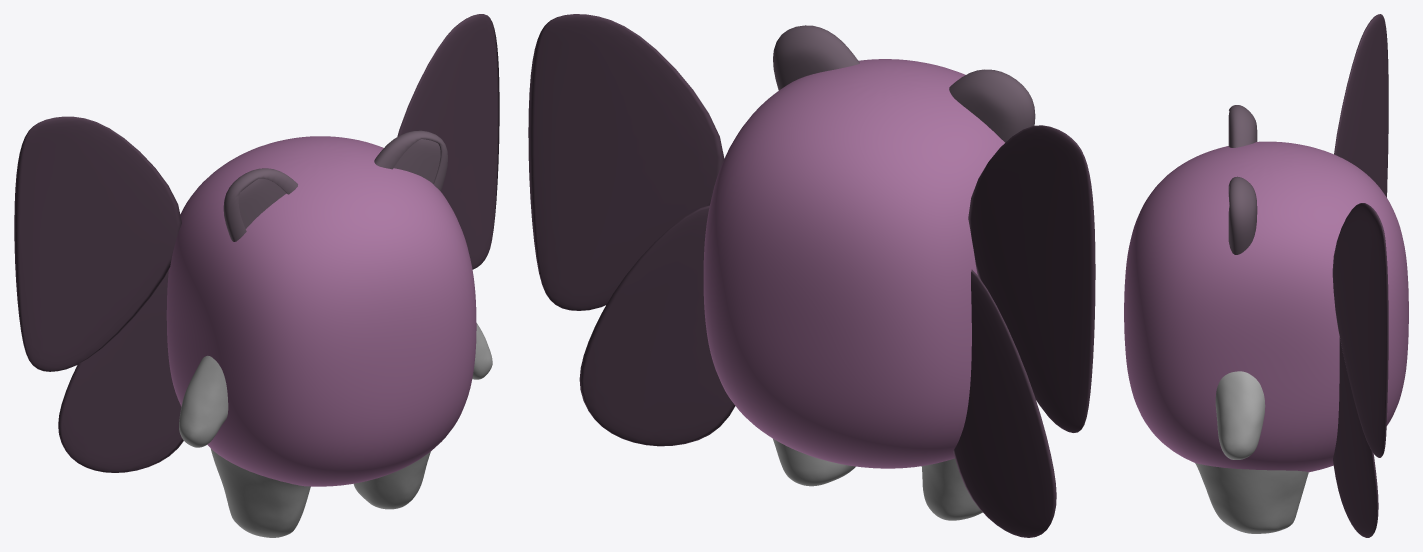
File: ZoeModel.fbx
The picture shows the model from 3 angles, left to right: view 1: azimuth 30°, elevation 25°; view 2: azimuth 150°, elevation 25°; view 3: azimuth 270°, elevation 25°; orthographic projection. The views are drawn at different scales.
Visible parts, largest first — view 1: polySurface4; view 2: polySurface4; view 3: polySurface4.
Boxes of the visible parts, x1,y1,x2,y2 form: polySurface4: (14, 14, 499, 537); polySurface4: (528, 14, 1095, 537); polySurface4: (1124, 14, 1408, 537).
Bounding box in the file's own units: 3.2 × 2.56 × 1.7.
